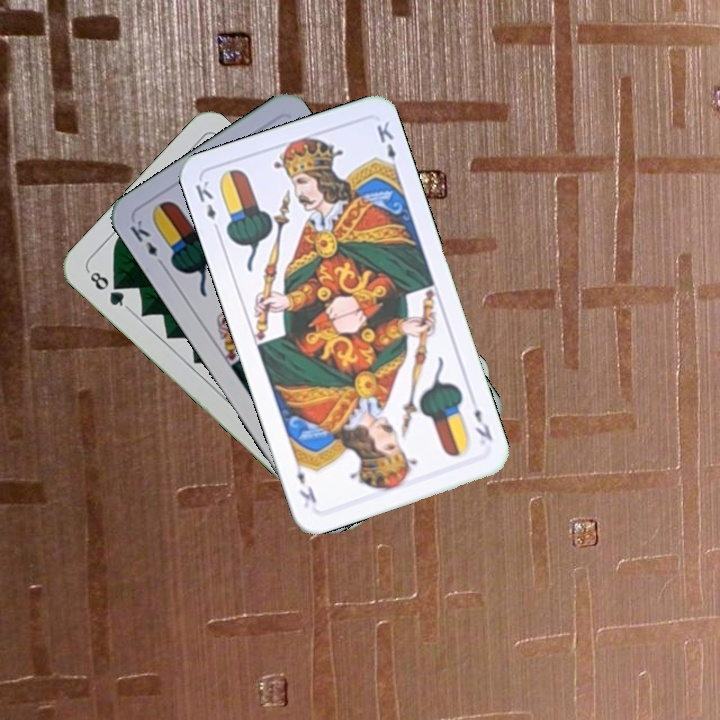EK: (125, 215, 168, 271), (191, 176, 223, 235), (470, 404, 496, 444)
G8: (84, 266, 131, 311)
